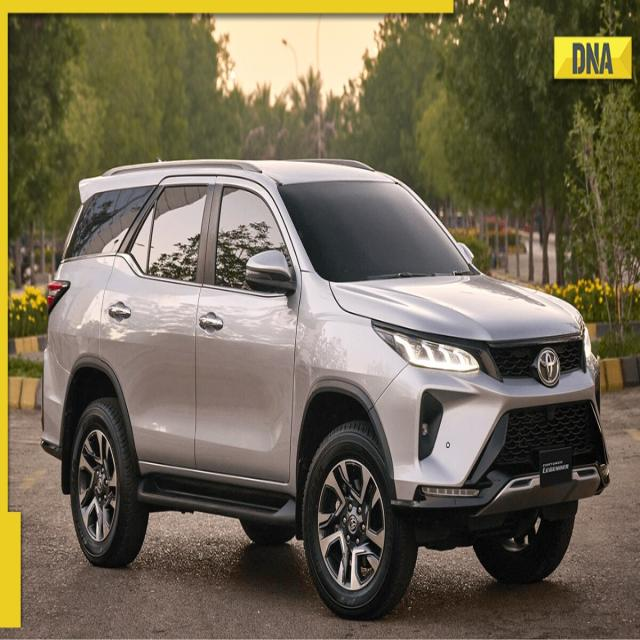light_vehicle: (40, 158, 609, 622)
